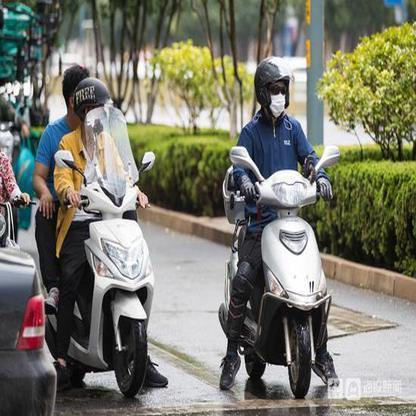target: (215, 56, 345, 403), (51, 76, 169, 400)
